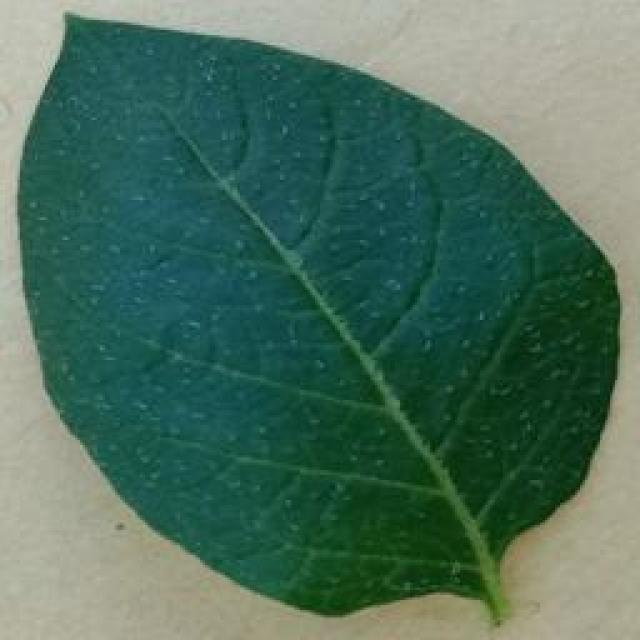Potato_Healthy: (19, 14, 613, 625)
